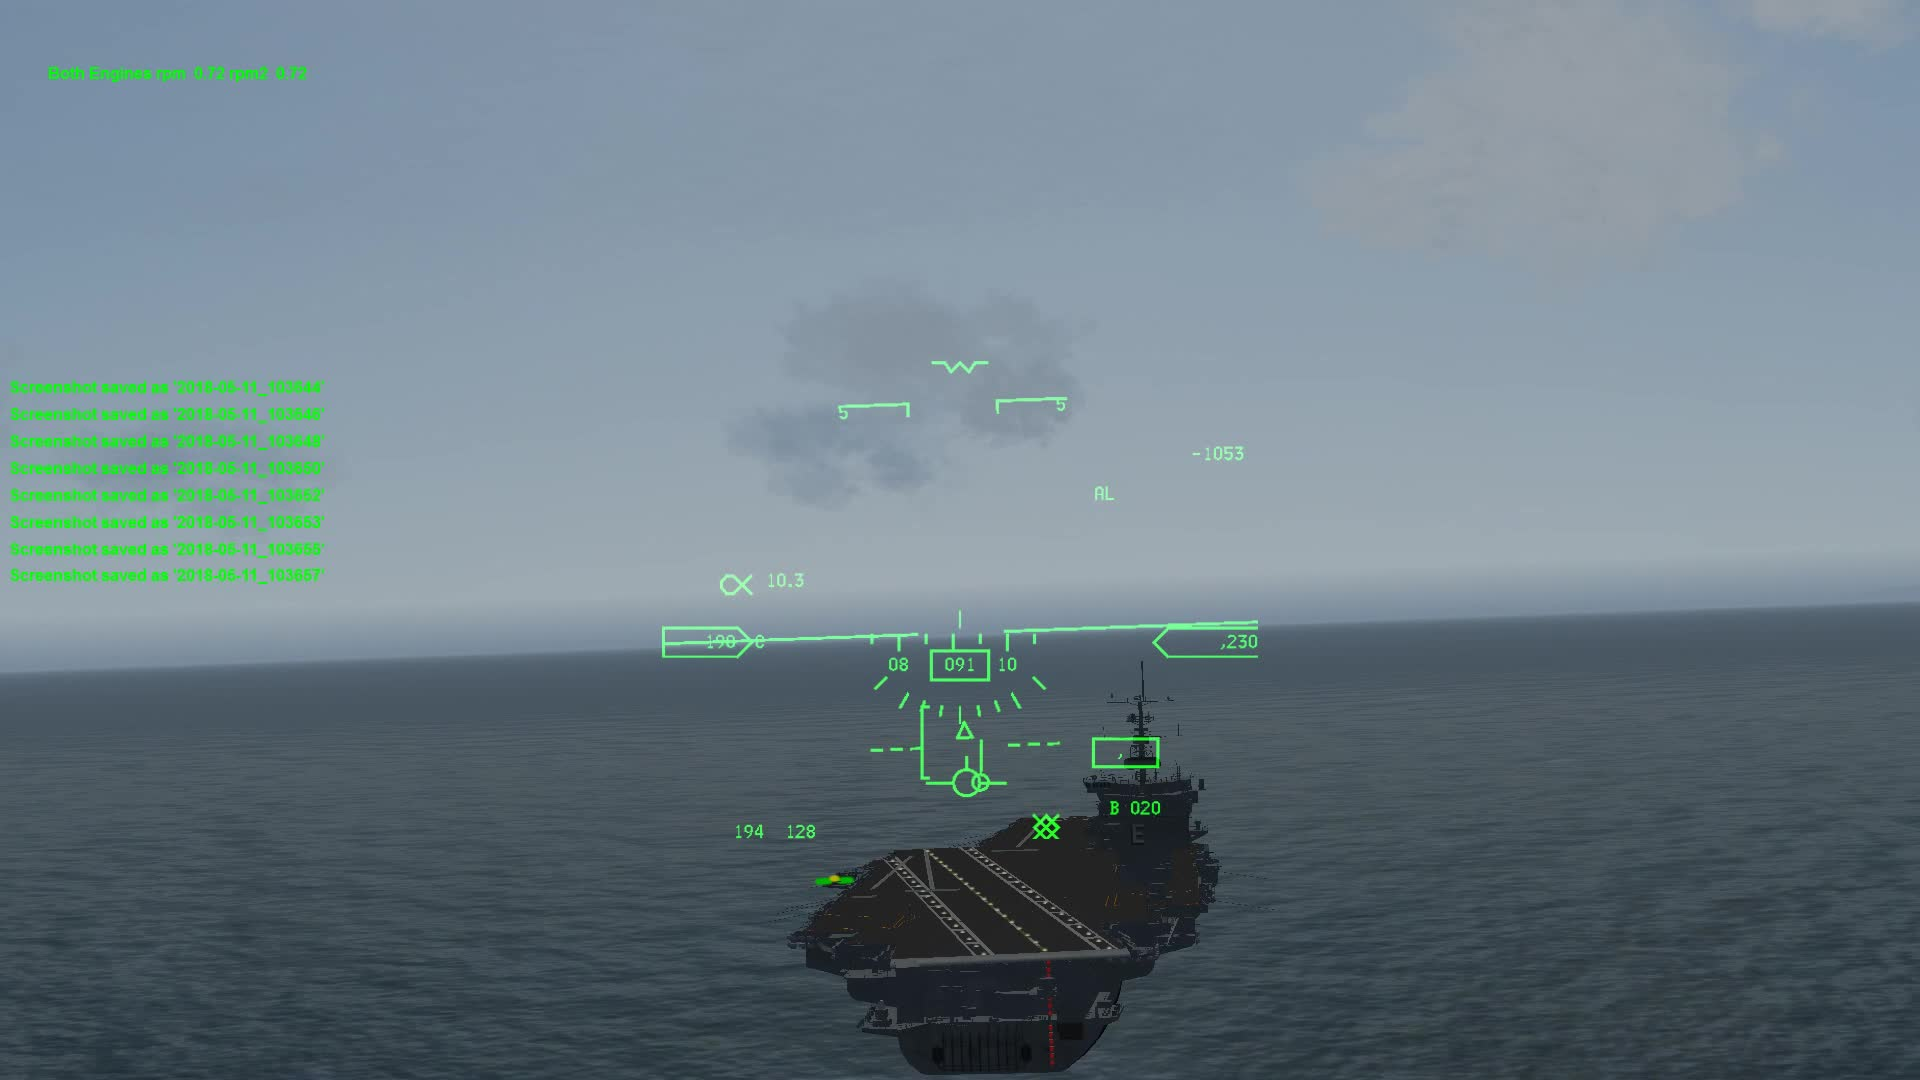speed vector: (928, 754, 1007, 799)
